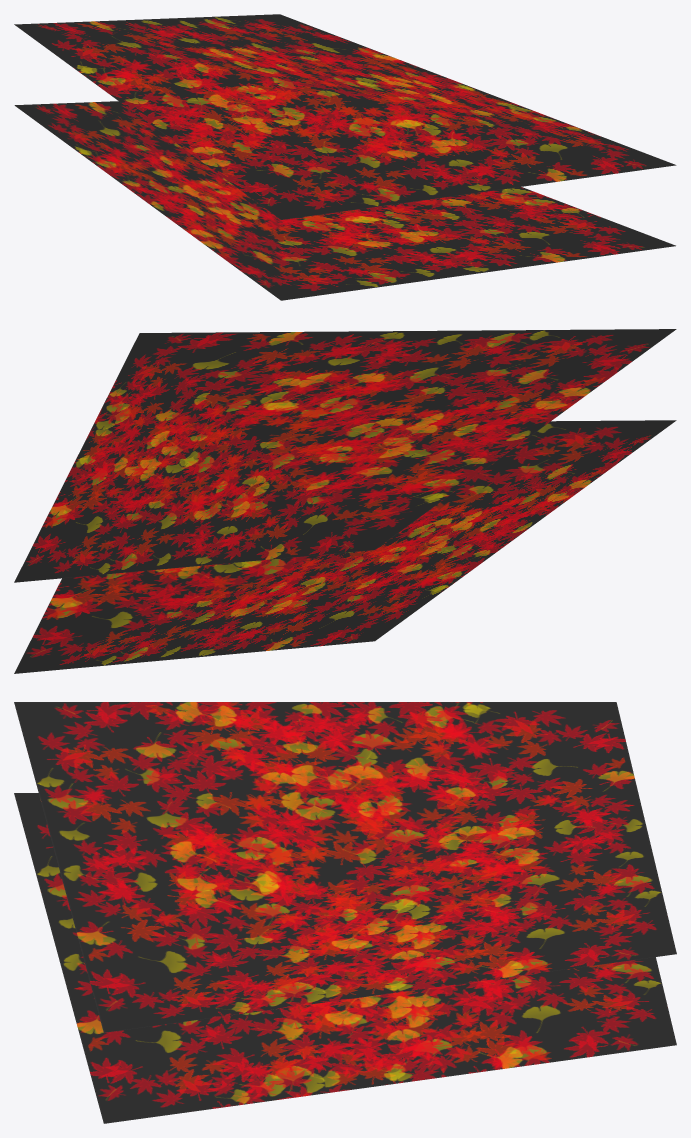
The model's file is CourseAki_CurveFloor_4_1.fbx.
3 views of the same model, one above another, from view 1: azimuth 30°, elevation 25°; view 2: azimuth 150°, elevation 25°; view 3: azimuth 270°, elevation 25° (orthographic). The views are drawn at different scales.
Parts seen in each view (by area): view 1: polySurface490; view 2: polySurface490; view 3: polySurface490.
Boxes of the visible parts, x1,y1,x2,y2 form: polySurface490: (14,14,676,300); polySurface490: (14,329,676,673); polySurface490: (14,702,676,1123).
Bounding box in the file's own units: 5.65 × 2 × 6.6.
1 material, 1 textured.
